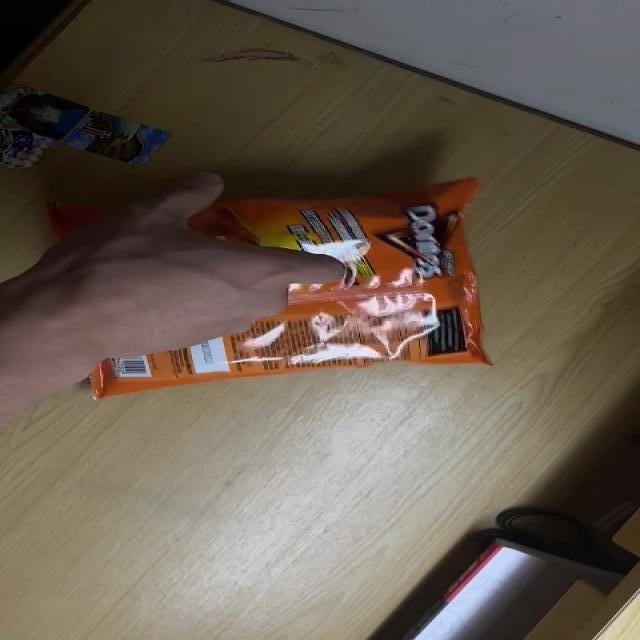Doritos: (54, 177, 490, 402)
